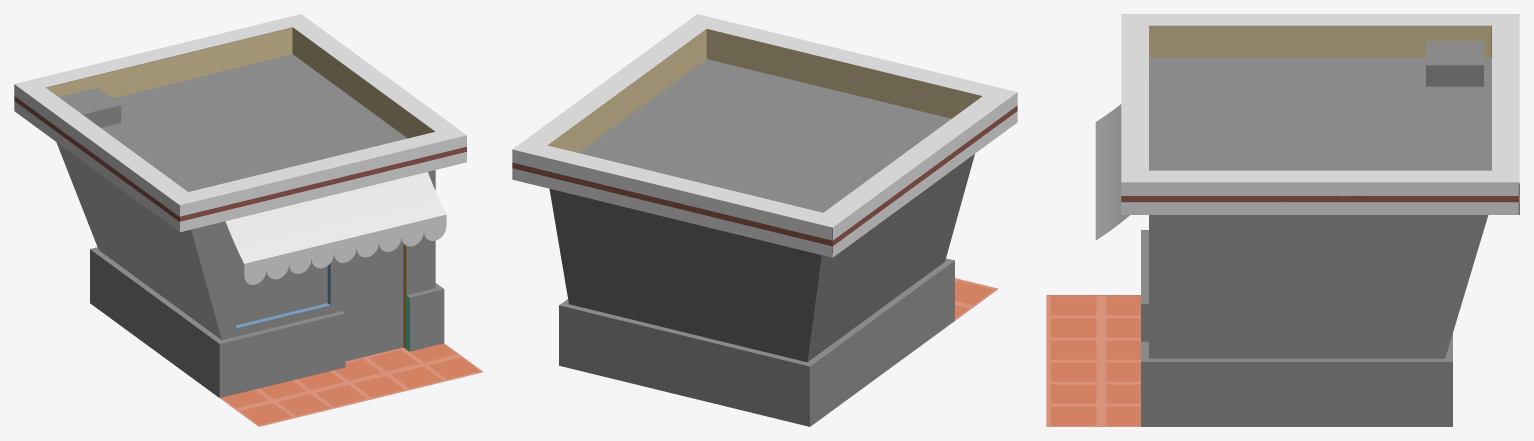
File: With Canopies 02.FBX
The picture shows the model from 3 angles, left to right: view 1: azimuth 30°, elevation 25°; view 2: azimuth 150°, elevation 25°; view 3: azimuth 270°, elevation 25°; orthographic projection. The views are drawn at different scales.
Visible parts, largest first — view 1: Store, Canopies, Plane; view 2: Store, Plane; view 3: Store, Plane, Canopies.
Part boxes in pixels (bbox=[...]): Store: bbox=[14, 14, 466, 397]; Canopies: bbox=[225, 172, 446, 284]; Plane: bbox=[220, 343, 483, 426]; Store: bbox=[512, 14, 1017, 426]; Plane: bbox=[955, 278, 998, 320]; Store: bbox=[1121, 14, 1519, 426]; Plane: bbox=[1046, 295, 1140, 426]; Canopies: bbox=[1095, 78, 1150, 240].
Size of the model in its own units: 101 by 70.47 by 119.
